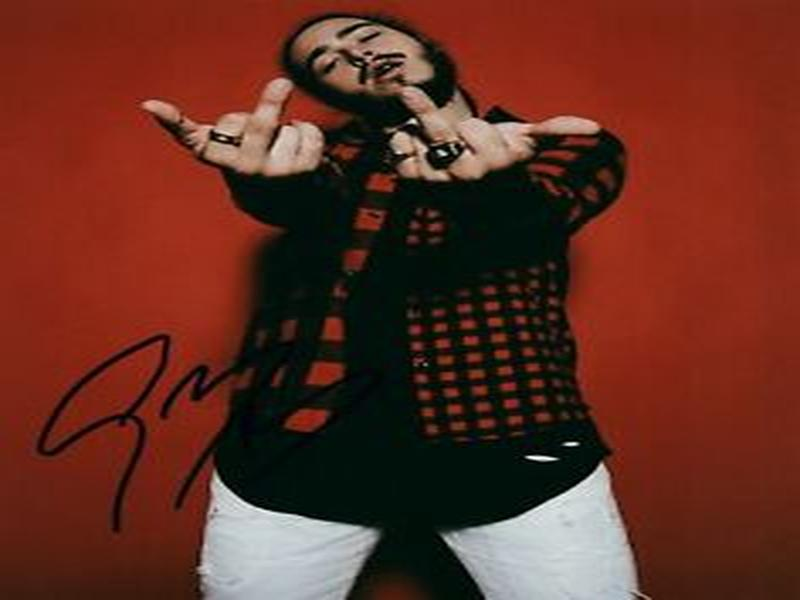flipping_the_bird: (380, 83, 601, 186), (136, 71, 328, 186)
